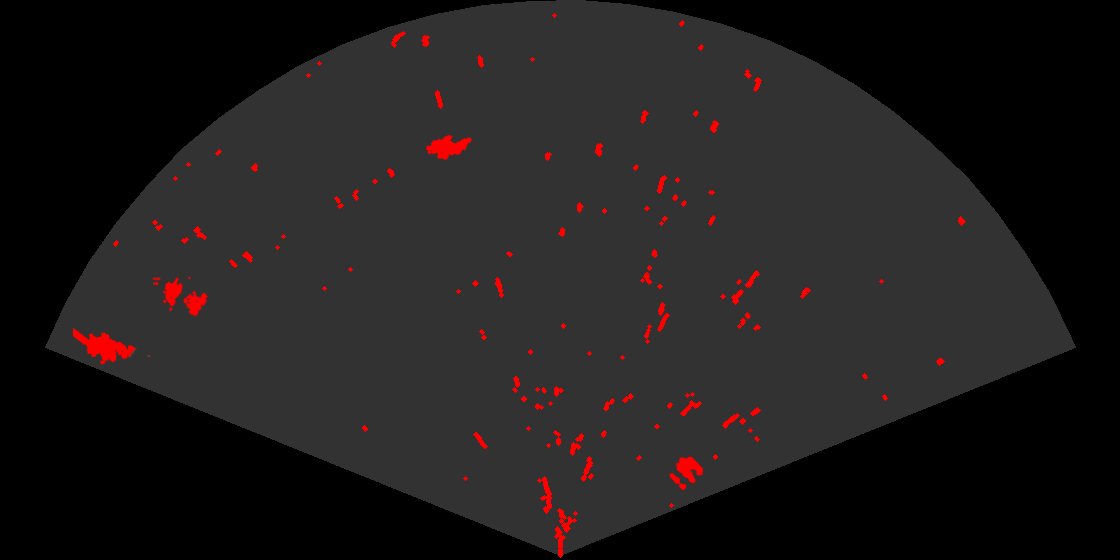AUV: (424, 133, 474, 162)
ball: (668, 455, 705, 492)
cage: (153, 277, 210, 318)
frogman: (73, 326, 152, 366)
